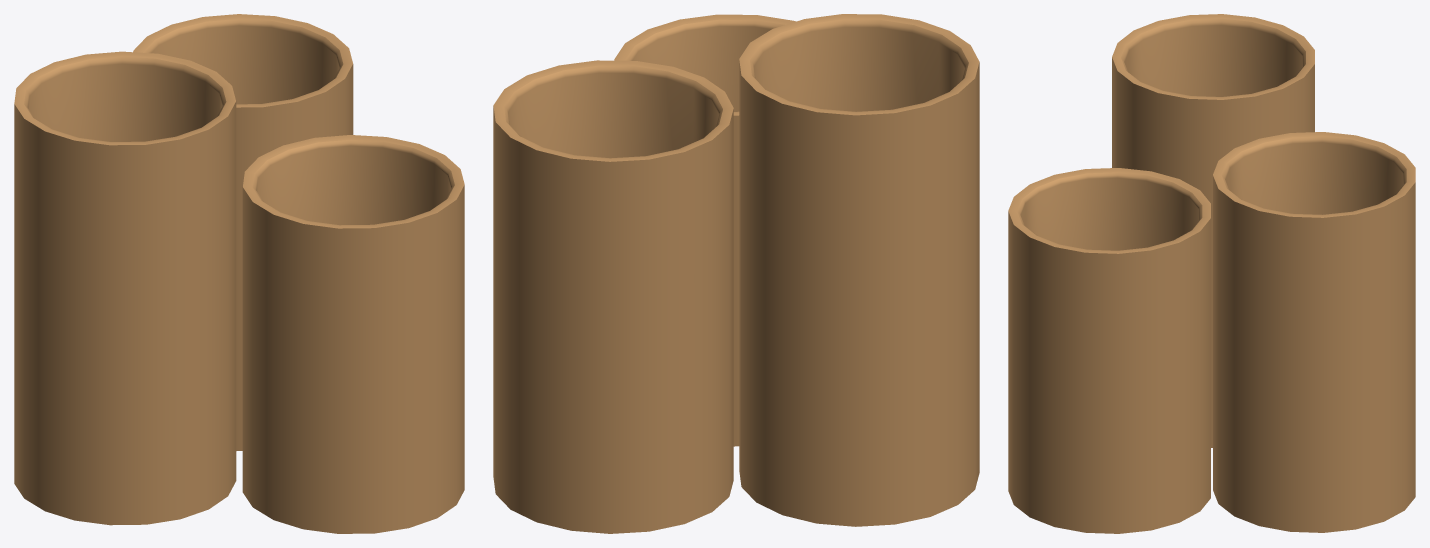
The model's file is PM_COPPERCASE.fbx.
The picture shows the model from 3 angles, left to right: view 1: azimuth 30°, elevation 25°; view 2: azimuth 150°, elevation 25°; view 3: azimuth 270°, elevation 25°; orthographic projection. The views are drawn at different scales.
Parts seen in each view (by area): view 1: COPPERCASE; view 2: COPPERCASE; view 3: COPPERCASE.
Part boxes in pixels (box(x1,y1,x2,y2)): COPPERCASE: box(14, 14, 464, 533); COPPERCASE: box(493, 14, 979, 533); COPPERCASE: box(1008, 14, 1415, 533).
Bounding box in the file's own units: 0.51 × 0.5388 × 0.5209.
